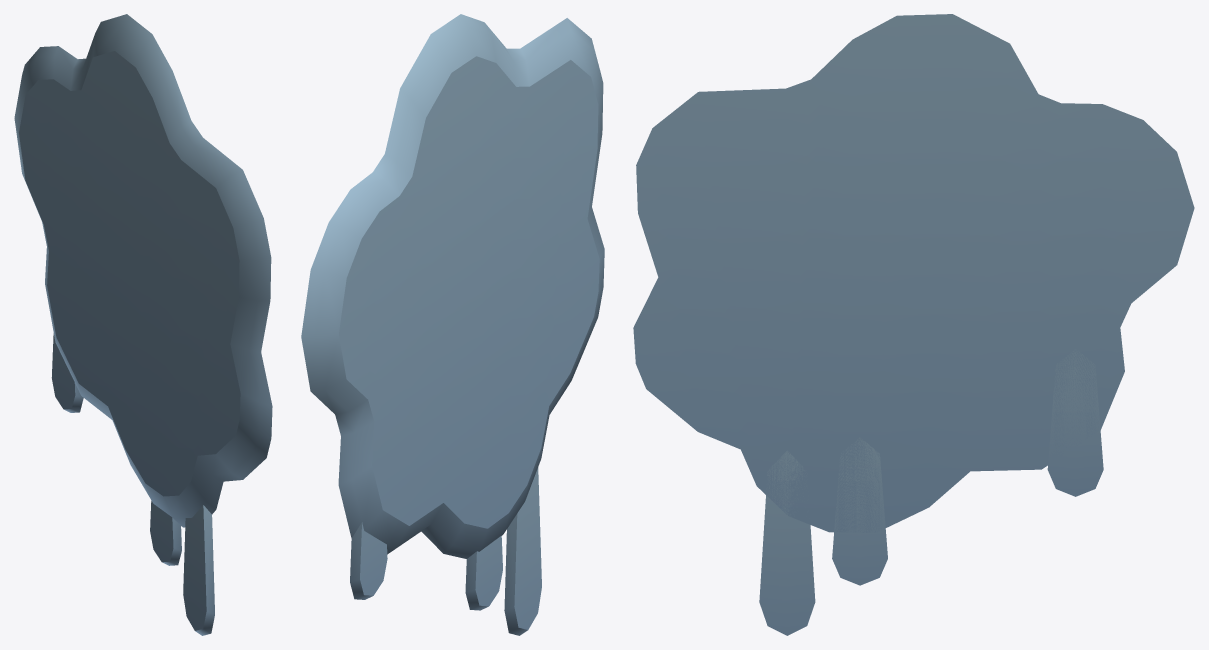
The model's file is puddle-wall (%wall).glb.
3 views of the same model, side by side, from view 1: azimuth 30°, elevation 25°; view 2: azimuth 150°, elevation 25°; view 3: azimuth 270°, elevation 25° (orthographic). The views are drawn at different scales.
Visible parts, largest first — view 1: puddle-wall (%wall); view 2: puddle-wall (%wall); view 3: puddle-wall (%wall).
Boxes of the visible parts, x1,y1,x2,y2 form: puddle-wall (%wall): (14,14,272,635); puddle-wall (%wall): (301,14,604,635); puddle-wall (%wall): (633,14,1194,635).
Size of the model in its own units: 0.02 by 0.7246 by 0.5925.
